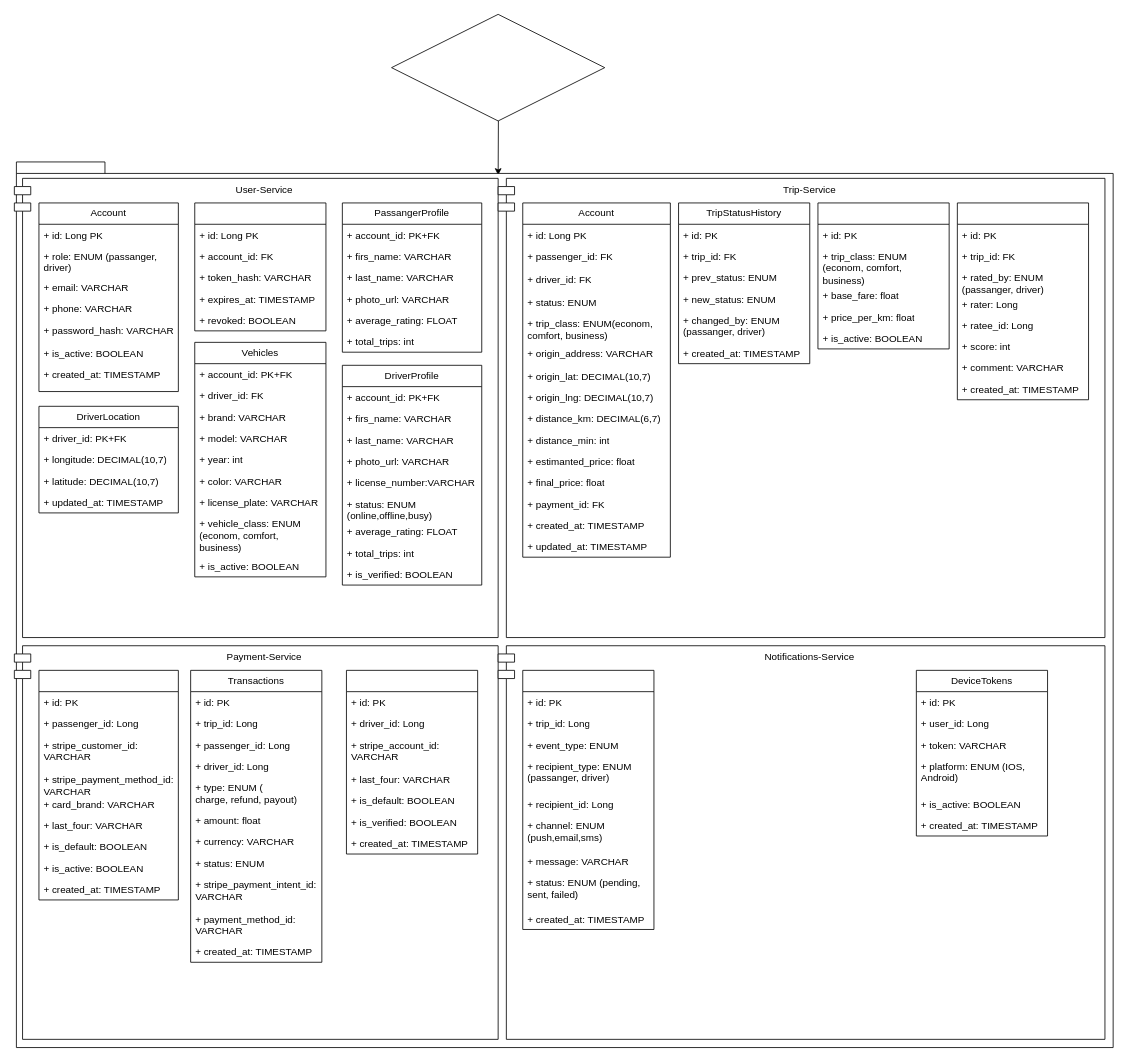
Image size: 1128x1062. Some labels were removed from this diagram. The box of each missing label's shape, as (x1, y1, x2, y2) in pixels:
API Gateway: (391, 14, 605, 121)
DriverPayoutAccount: (346, 670, 478, 854)
NotificationTasks: (522, 670, 654, 929)
PaymentMethods: (38, 670, 178, 900)
Rating: (957, 202, 1089, 400)
RefreshTokens: (194, 202, 326, 331)
Tariffs: (817, 202, 949, 349)
